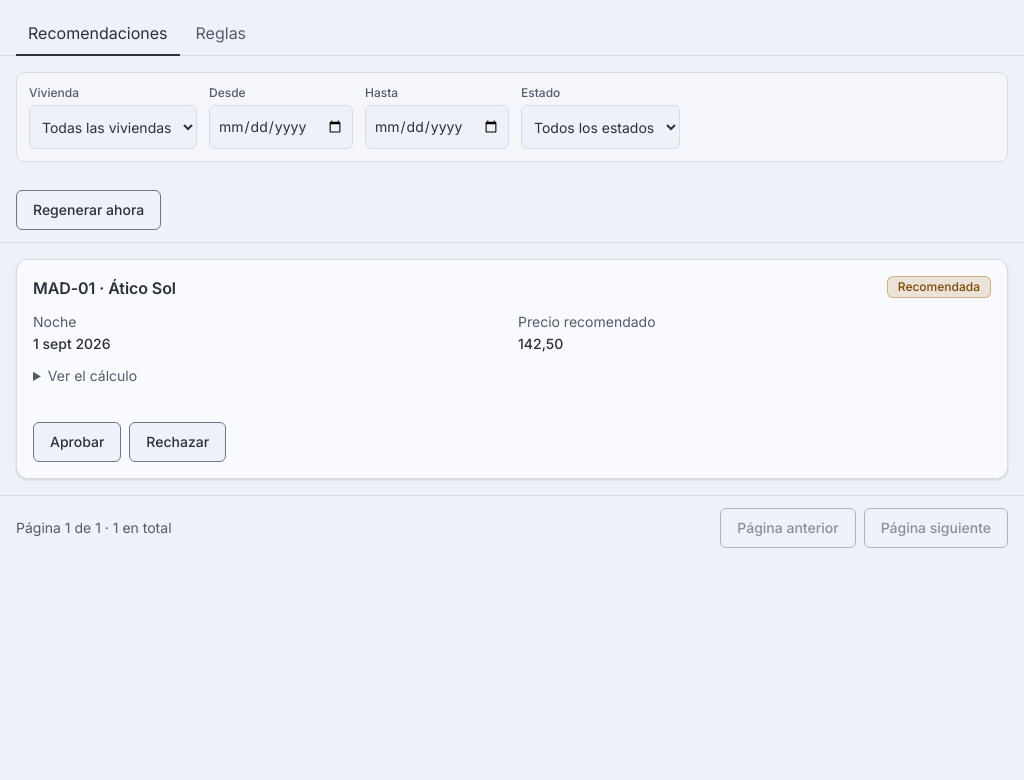
it: PricingView — the live region (R3.6, R3.8, R4.2, R4.3) › shows a 403 as an error and never as success (R3.8)
What coordinates should you click on to do the following:
click the button "Aprobar"
I would click on:
 (77, 442)
Its box is x1=33 y1=422 x2=121 y2=462.
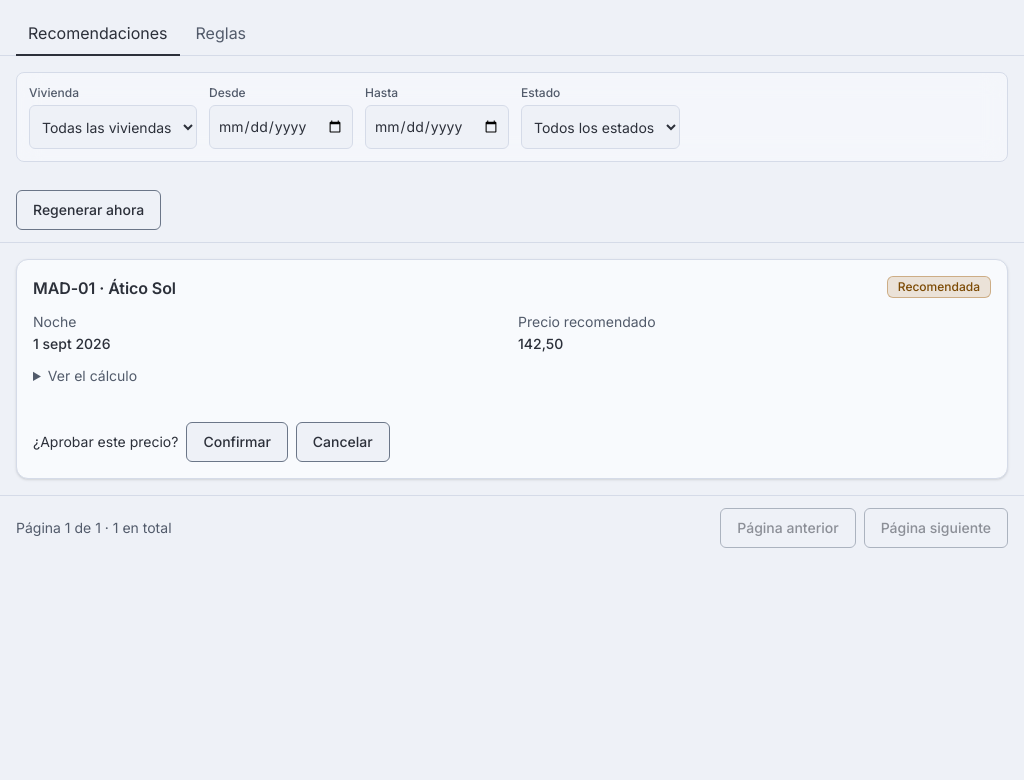
What coordinates should you click on to do the following:
click the button "Confirmar"
I would click on:
 (237, 442)
Its box is x1=186 y1=422 x2=288 y2=462.
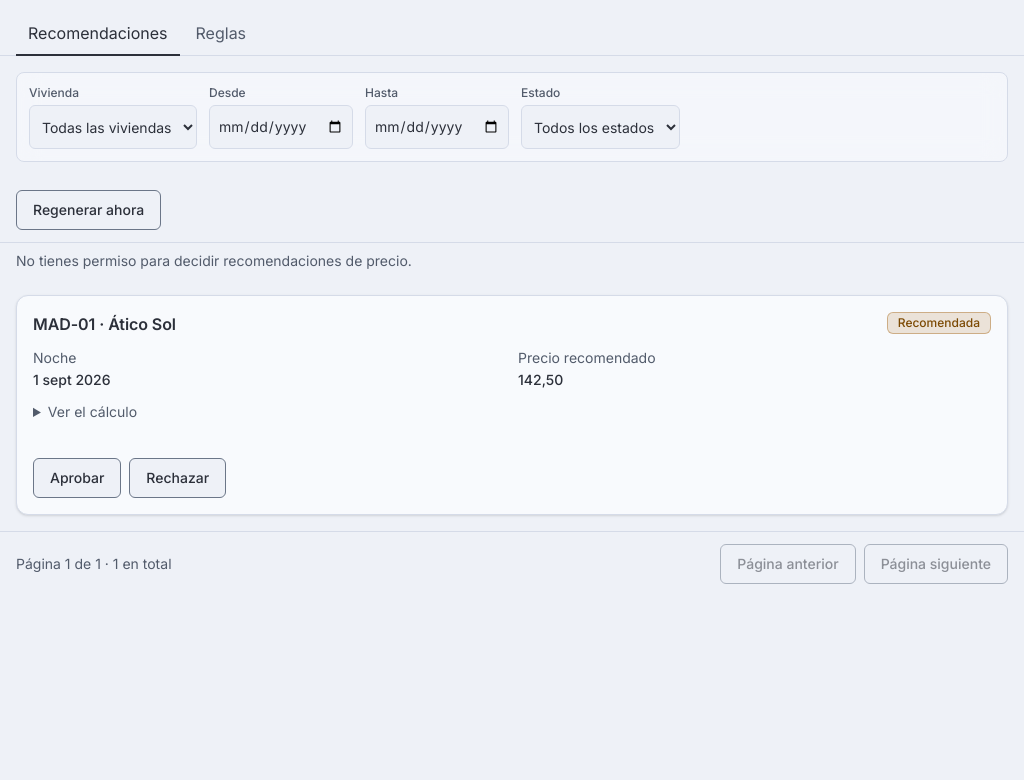
Expected: the message reads "No tienes permiso para decidir recomendaciones de precio.", x1=16 y1=252 x2=412 y2=269
